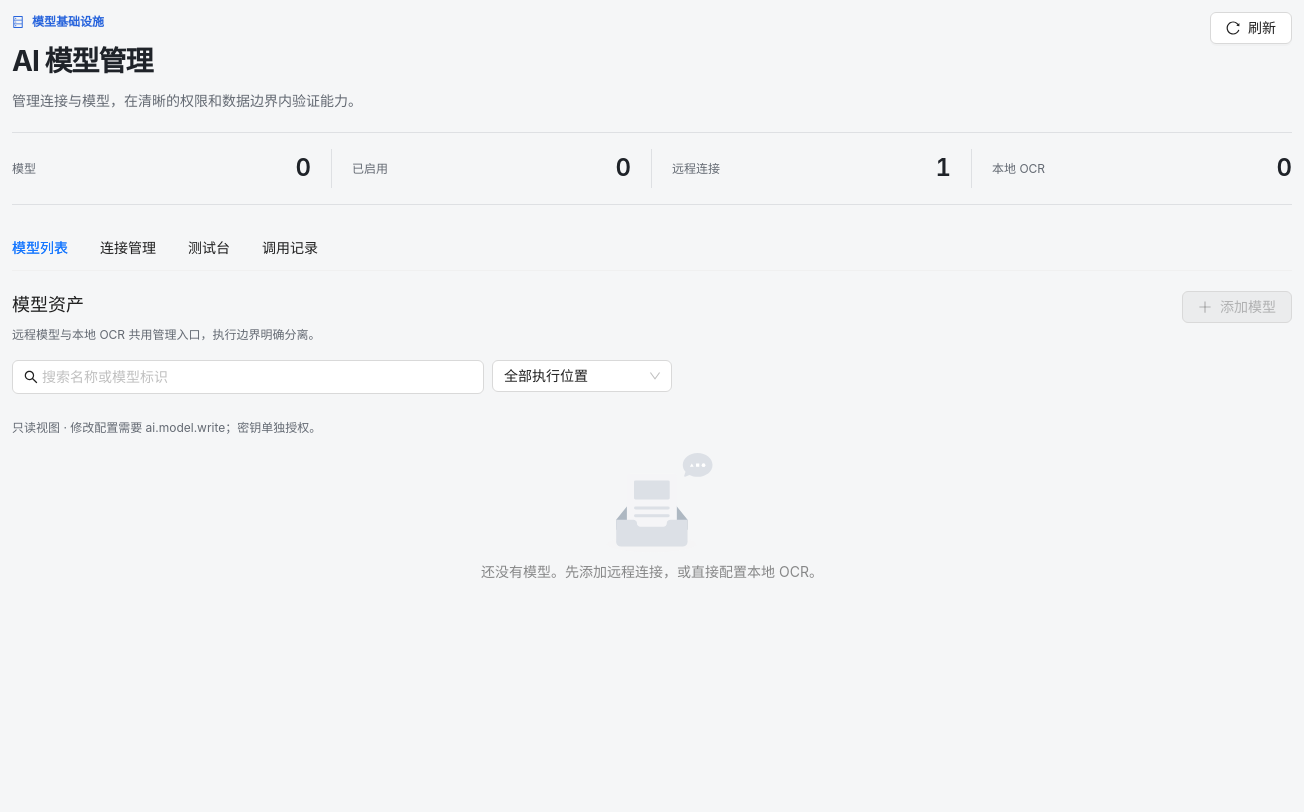
Test case: permission boundaries and low-risk logs › logs fetch only metadata and ignore accidental transcript fields
Click the tab "调用记录": (290, 248) [262,237,318,259]
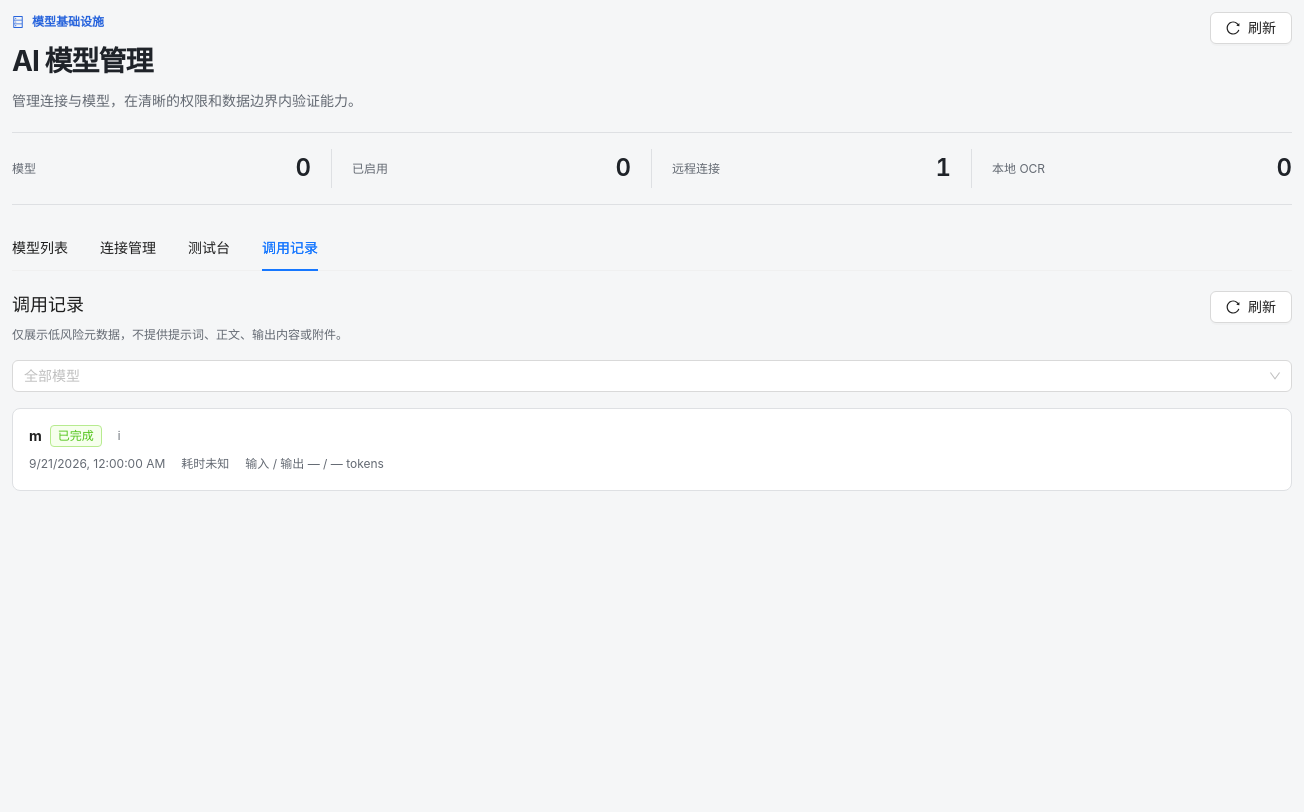
Now the text "— / — tokens" is shown, box [245,455,384,474]
